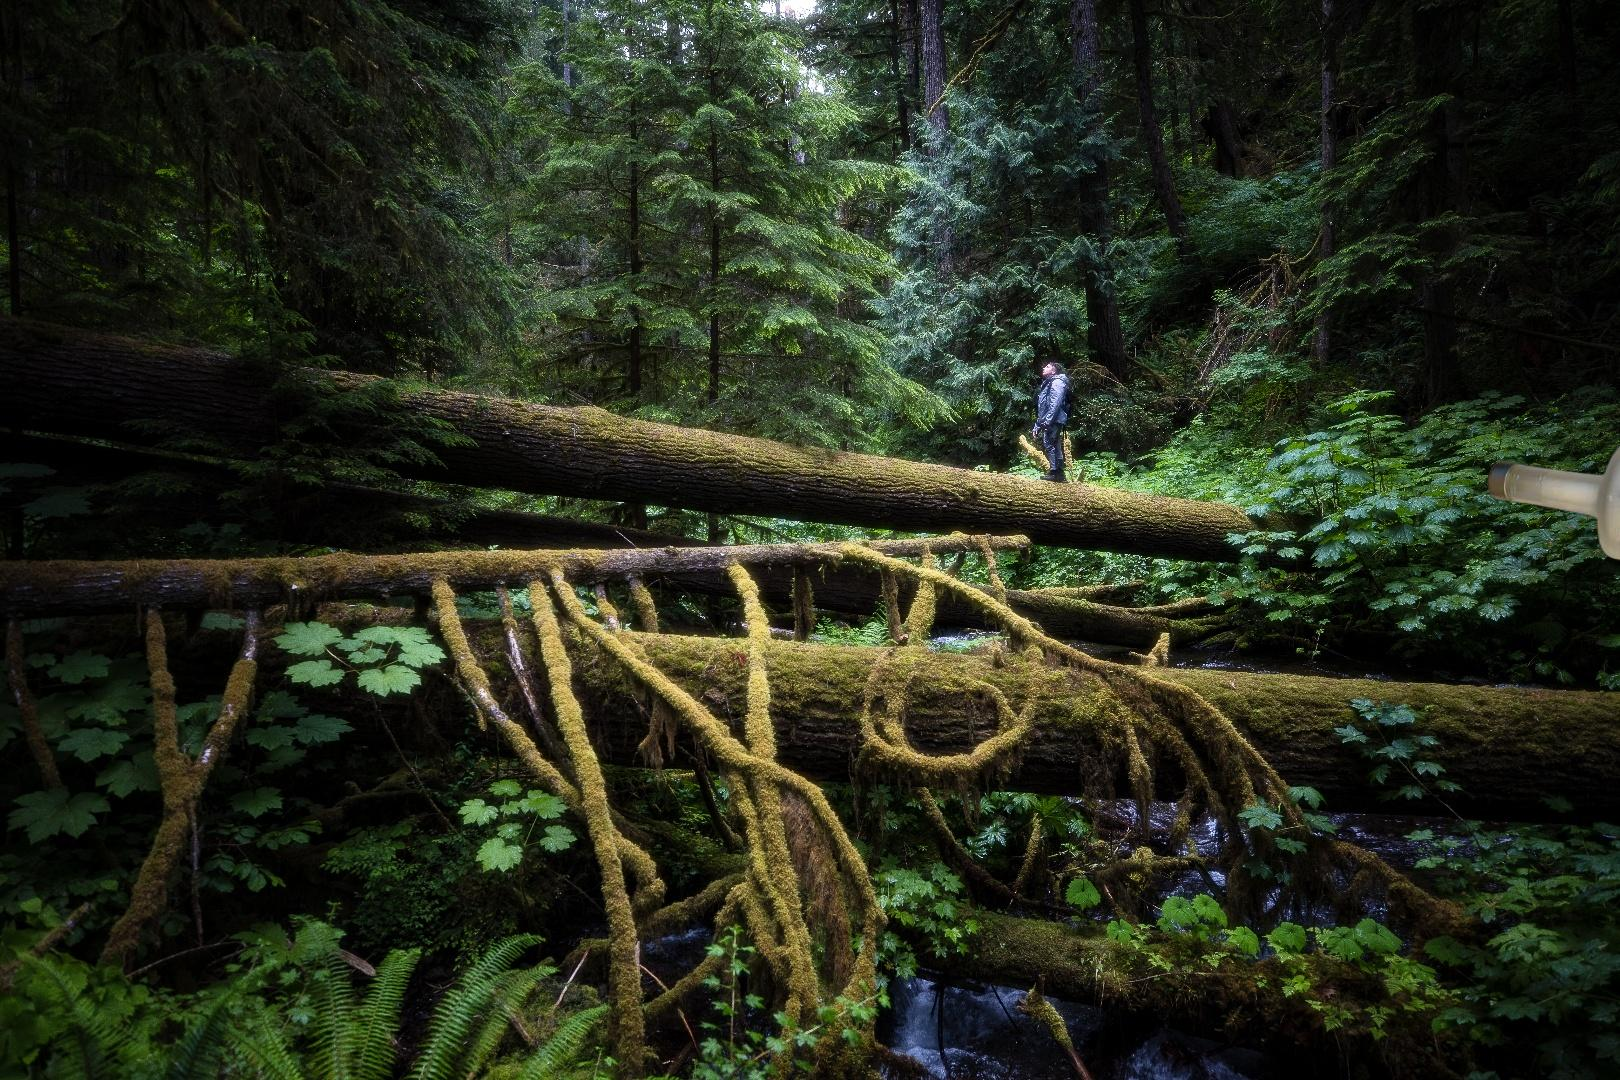glass: (1483, 439, 1620, 605)
